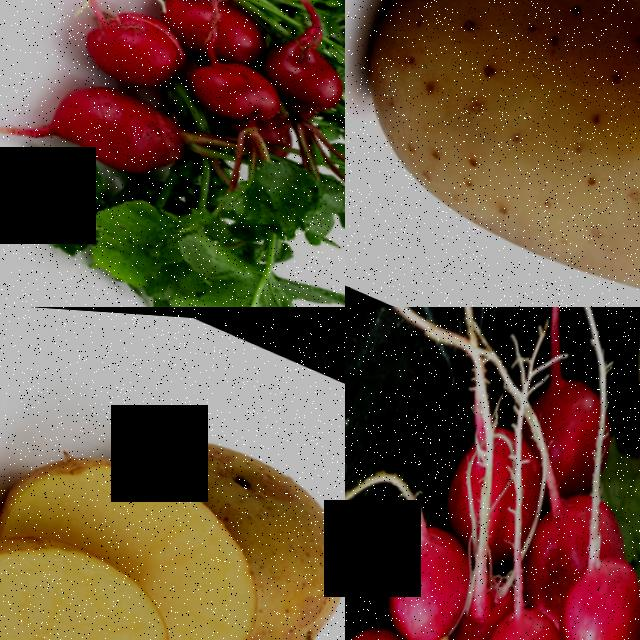potato: (345, 0, 640, 307), (83, 406, 345, 640), (0, 488, 196, 640)
radishes: (345, 309, 640, 640), (24, 0, 345, 261)
